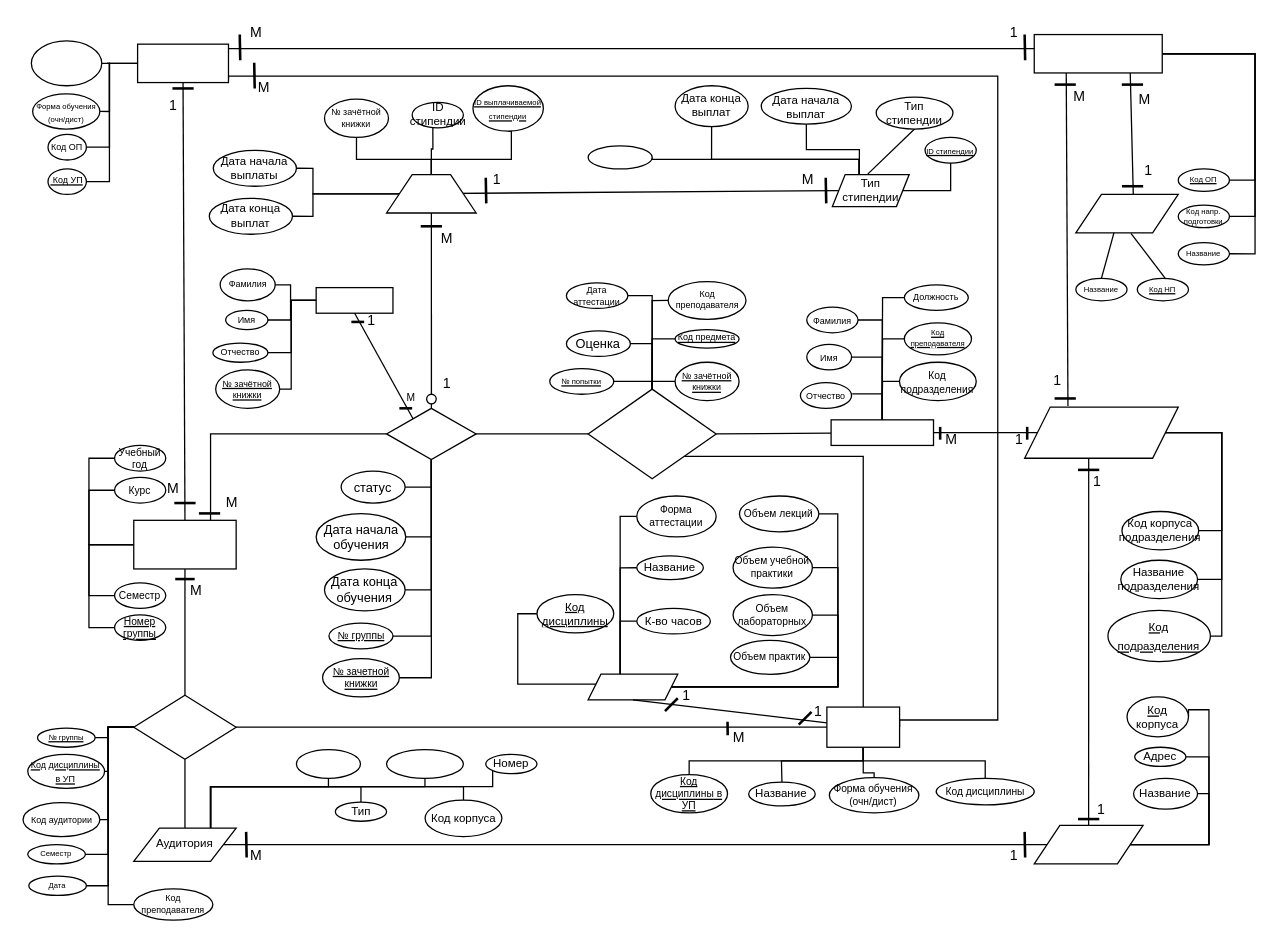
Some shapes in this 1279 by 943 pixel diagram are drawn without their labels. The shapes that lost their labels are listed below. From the top down, each one's centre as x and y in pixels, then its label:
point 66,63: Год начала подготовки студентов
point 182,63: Учебный план
point 1097,53: Образовательная программа
point 619,157: Сумма
point 430,193: История выплат
point 1126,213: Направление подготовки
point 354,299: Студент
point 430,433: Студент в группе
point 651,433: Аттестация
point 882,432: Преподаватель
point 1100,432: Подразделение вуза
point 184,544: Группа
point 632,686: Дисциплина
point 184,726: Расписание сессии
point 863,726: Дисциплина в учебном плане
point 327,763: Код ауд.
point 424,763: Вместимость
point 1088,844: Корпус
